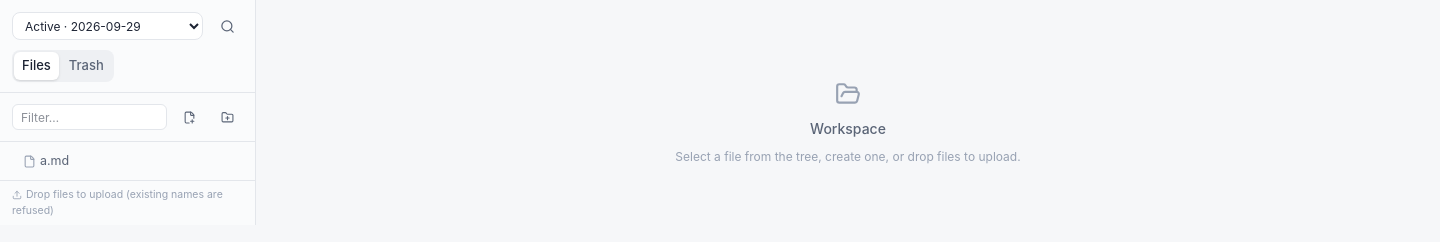
Test: WorkspacePage editing › gates editing behind the full read and saves with overwrite
The image size is (1440, 242).
Click the button "a.md" at (128, 161), box x1=6 y1=148 x2=249 y2=174
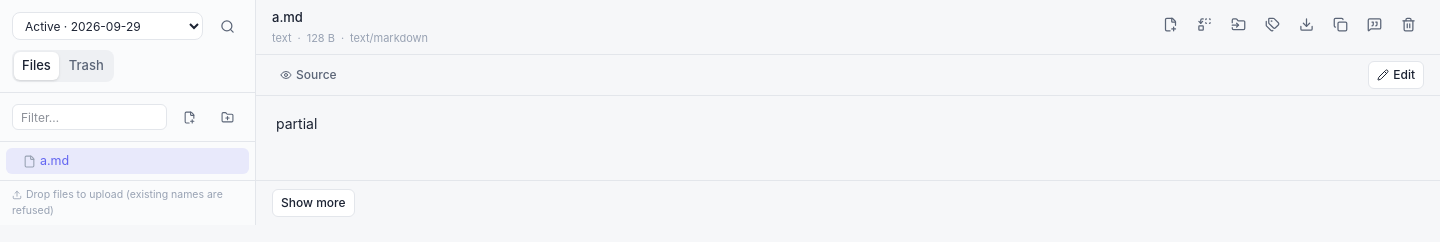
The paged screen is not the whole file: editing needs the full read.
Click the button "Edit" at (1396, 75), box x1=1368 y1=61 x2=1424 y2=89
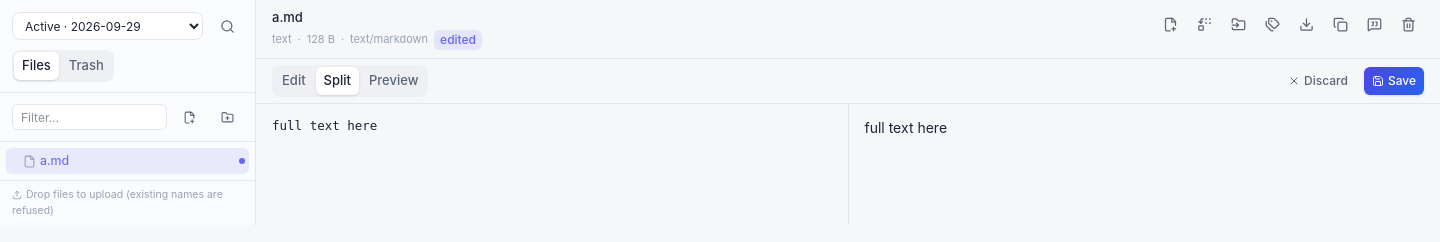
Now the text box named "File editor" holds "full text here", box x1=256 y1=104 x2=848 y2=224
Click the button "Save" at (1394, 80), box x1=1364 y1=66 x2=1424 y2=94
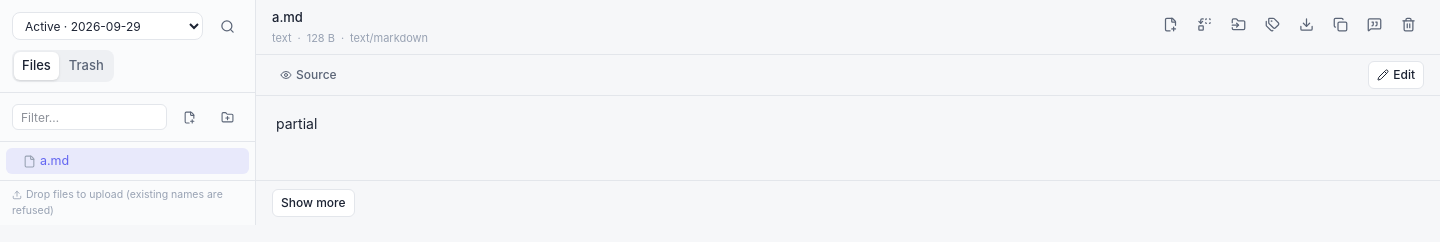
Now the text box is gone
